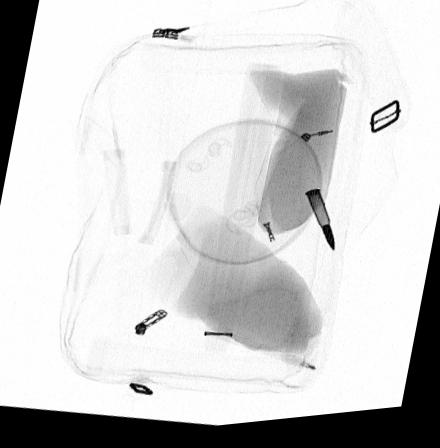Bullet: (304, 193, 336, 259)
